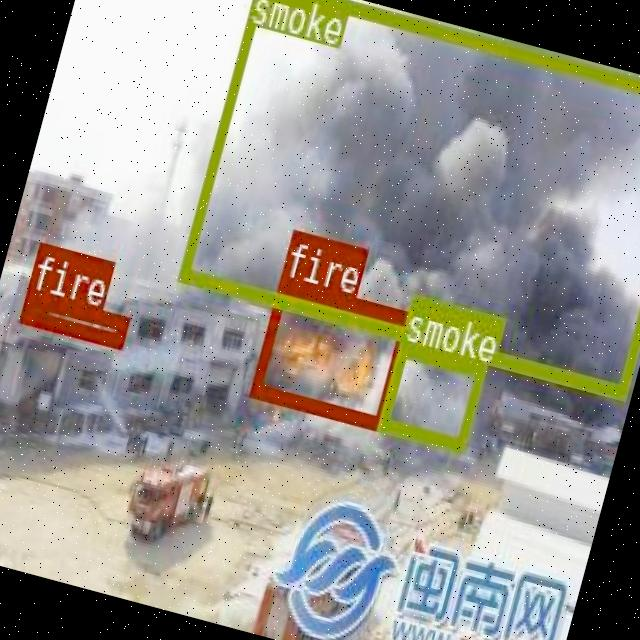fire: (250, 276, 410, 426), (17, 288, 128, 346)
smoke: (175, 0, 640, 398), (376, 342, 484, 449)
